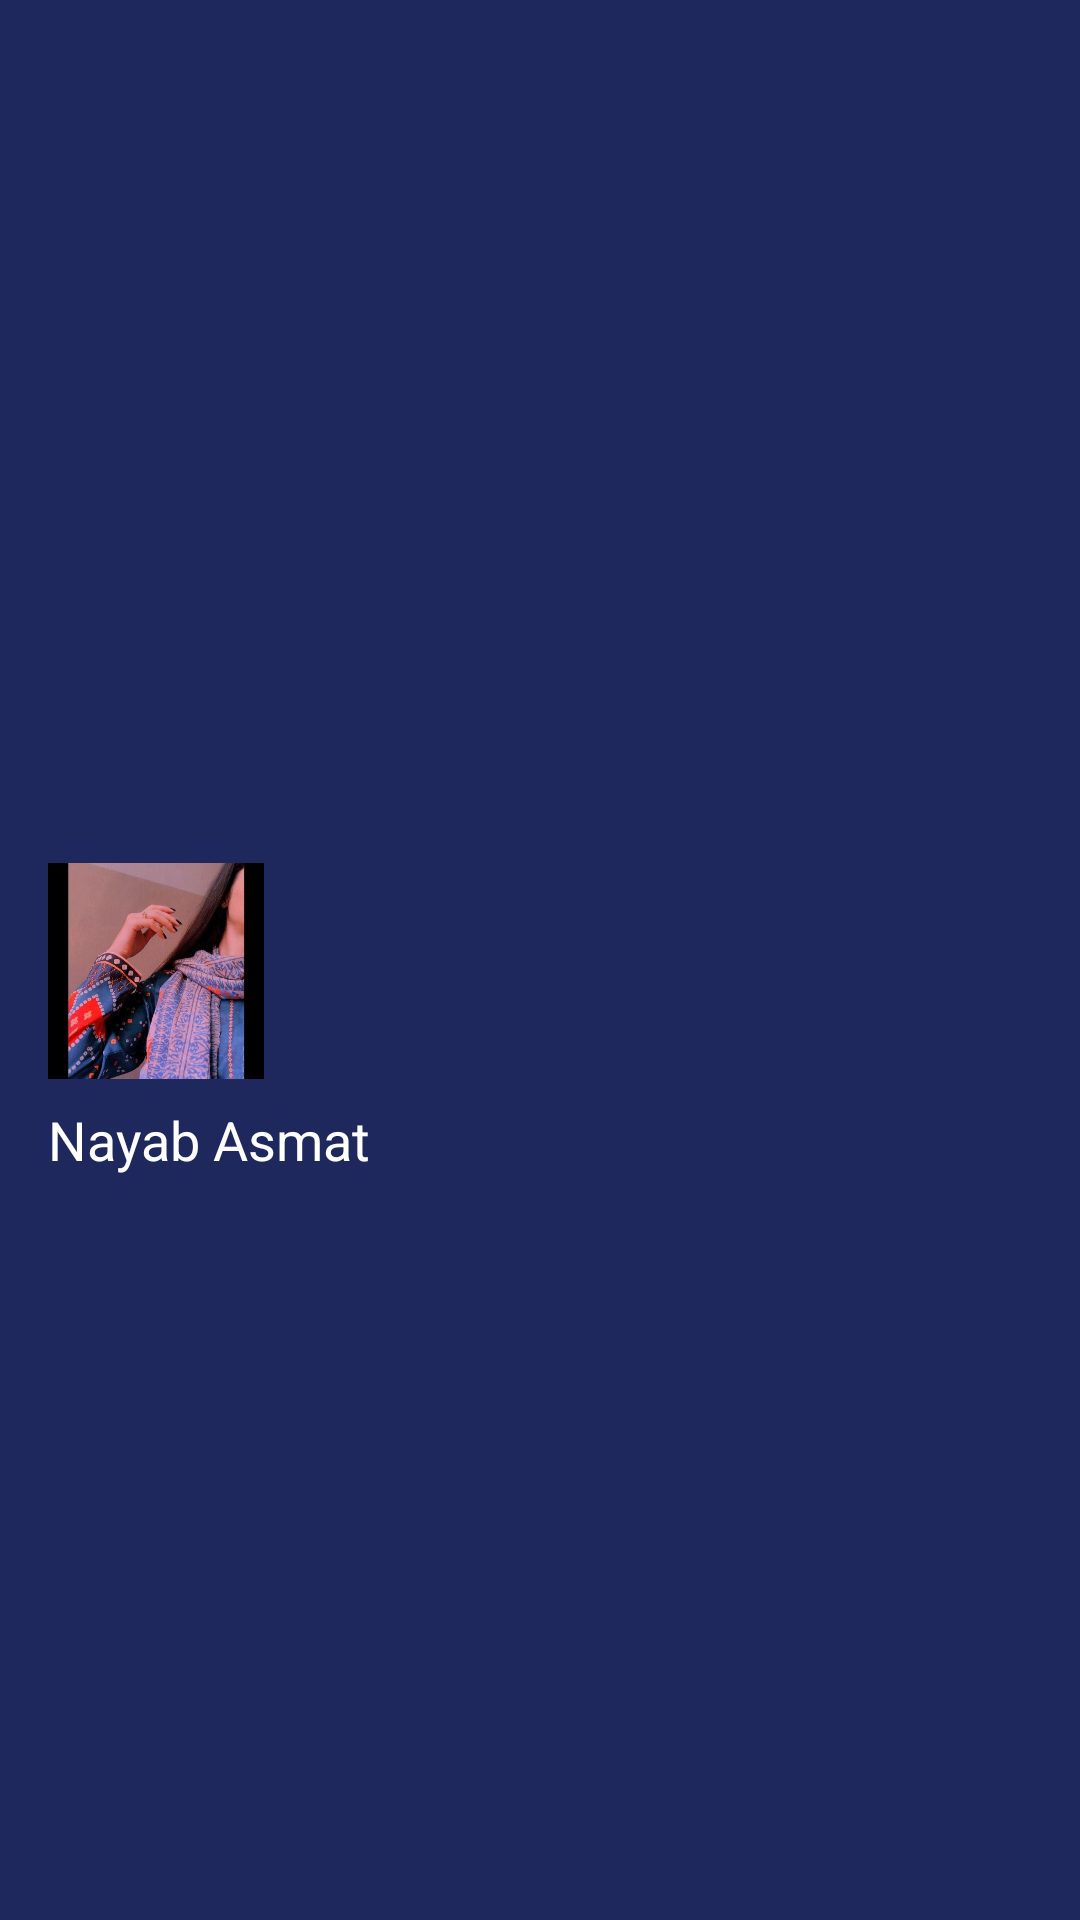

Where icons sit on this 1080*1920 app screen, as (x1, y1, x2, y2):
profile: (48, 863, 264, 1079)
